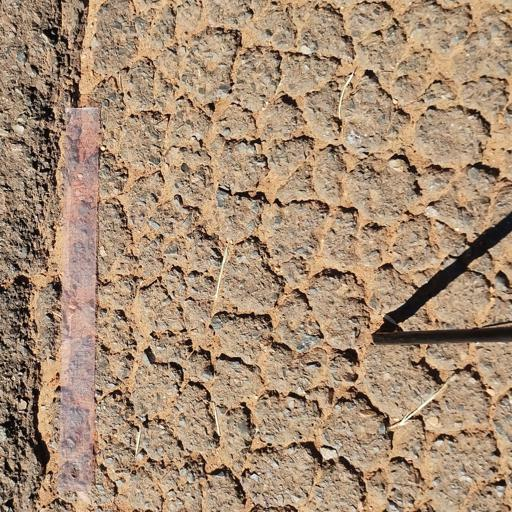PIEL DE COCODRILO: (20, 0, 511, 511)
